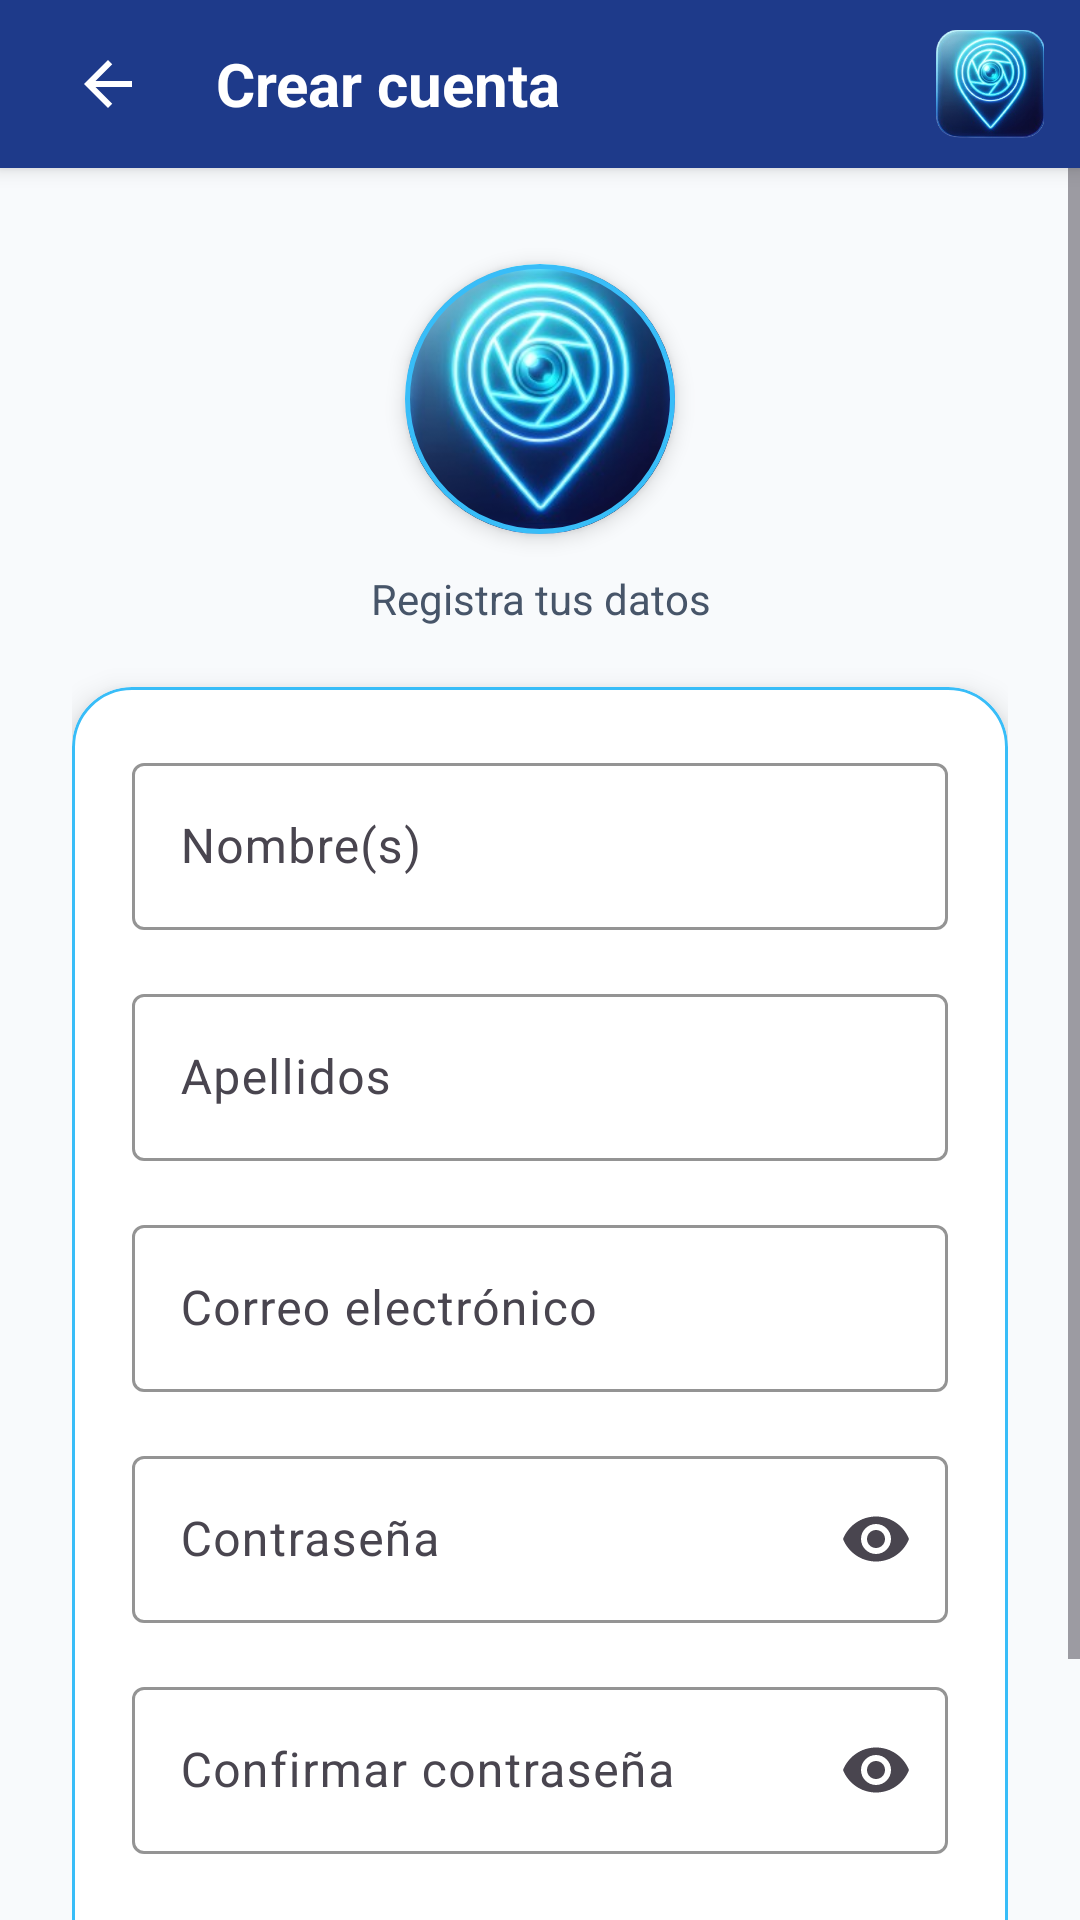

Screen size 1080×1920. Icon name, then its box in pixels as BBox(x1, y1, x2, y2):
Regresar: BBox(84, 60, 132, 108)
